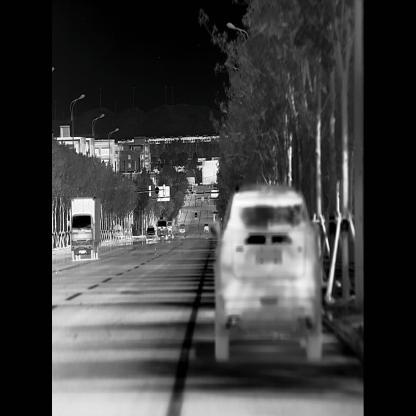car: (207, 164, 332, 381), (69, 194, 104, 262), (156, 218, 167, 241), (145, 224, 157, 245), (167, 218, 176, 241), (178, 220, 188, 236), (203, 221, 209, 234), (188, 186, 193, 196), (194, 210, 198, 221)
